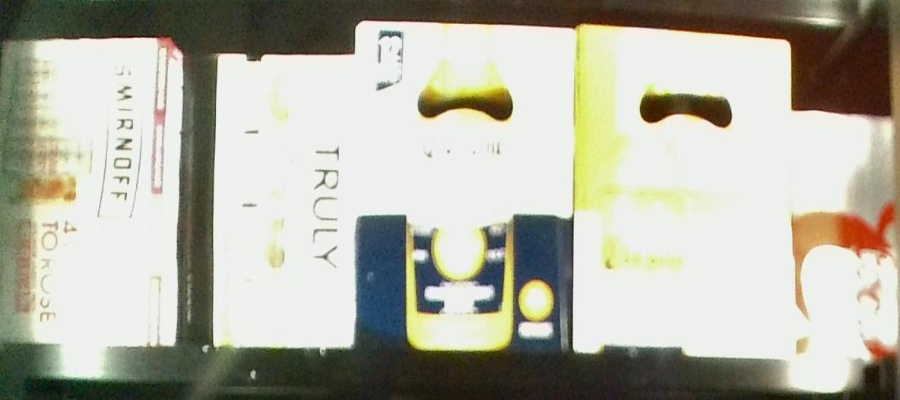bottle: (574, 24, 794, 361), (356, 21, 574, 354), (2, 38, 183, 350), (212, 51, 356, 347), (794, 112, 900, 359)
